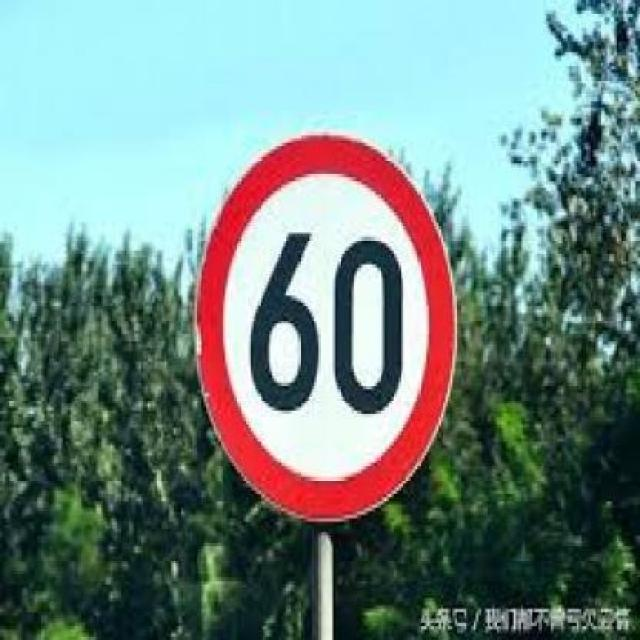forb_speed_over_60: (205, 136, 447, 513)
